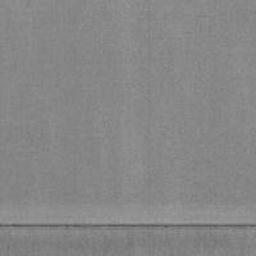Welding line: (0, 223, 256, 229)
